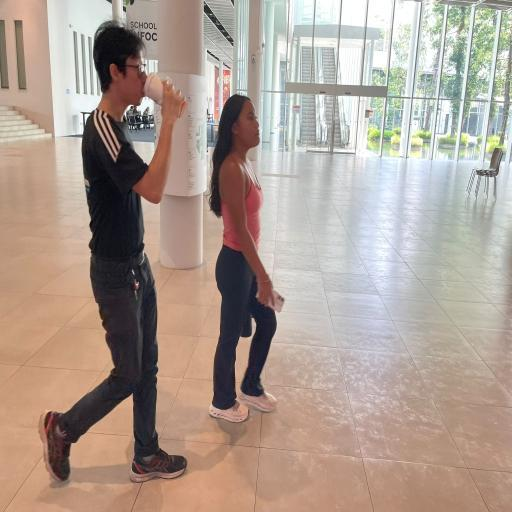person_right: (46, 25, 193, 491), (204, 92, 286, 444)
